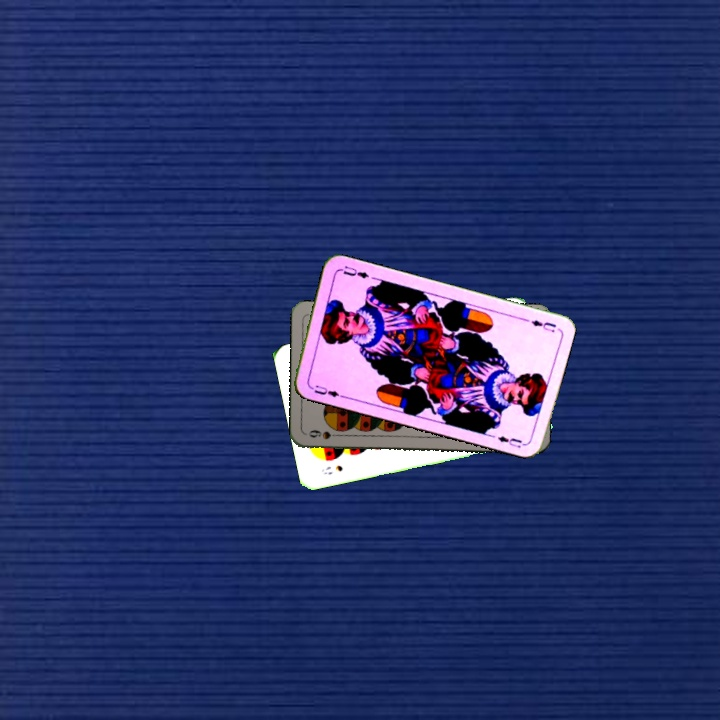EU: (310, 381, 346, 400), (527, 316, 559, 335)
S8: (318, 461, 346, 477)
S9: (305, 426, 345, 442)
